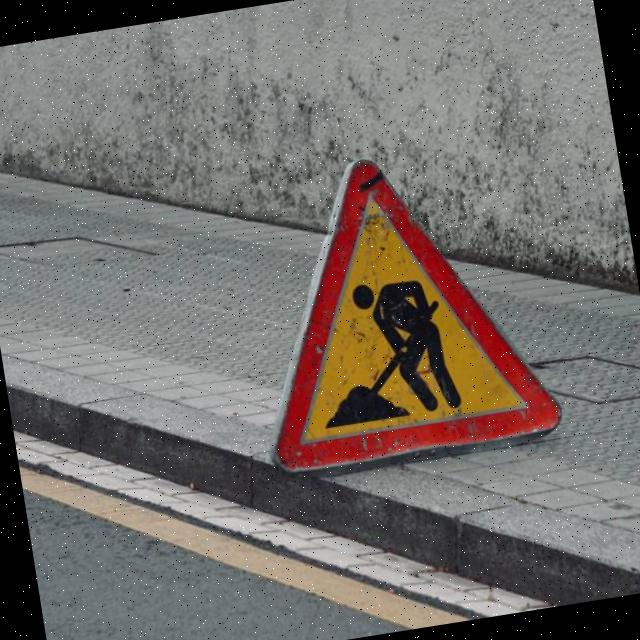road_work: (218, 134, 567, 488)
